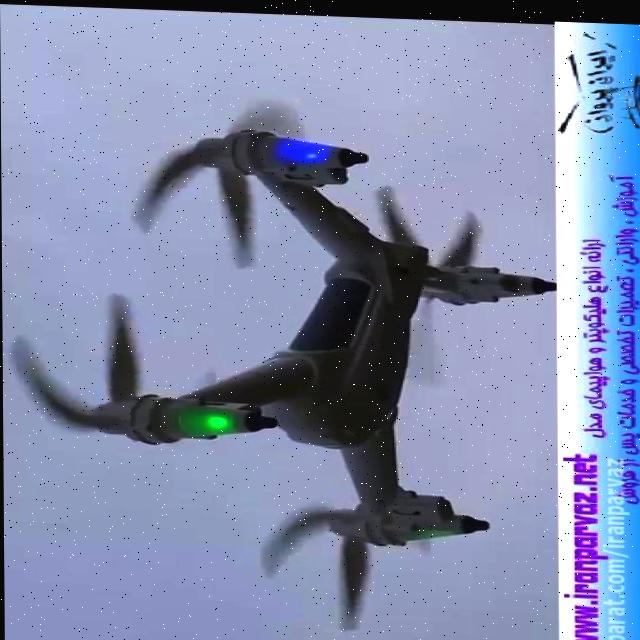drone: (3, 82, 557, 638)
